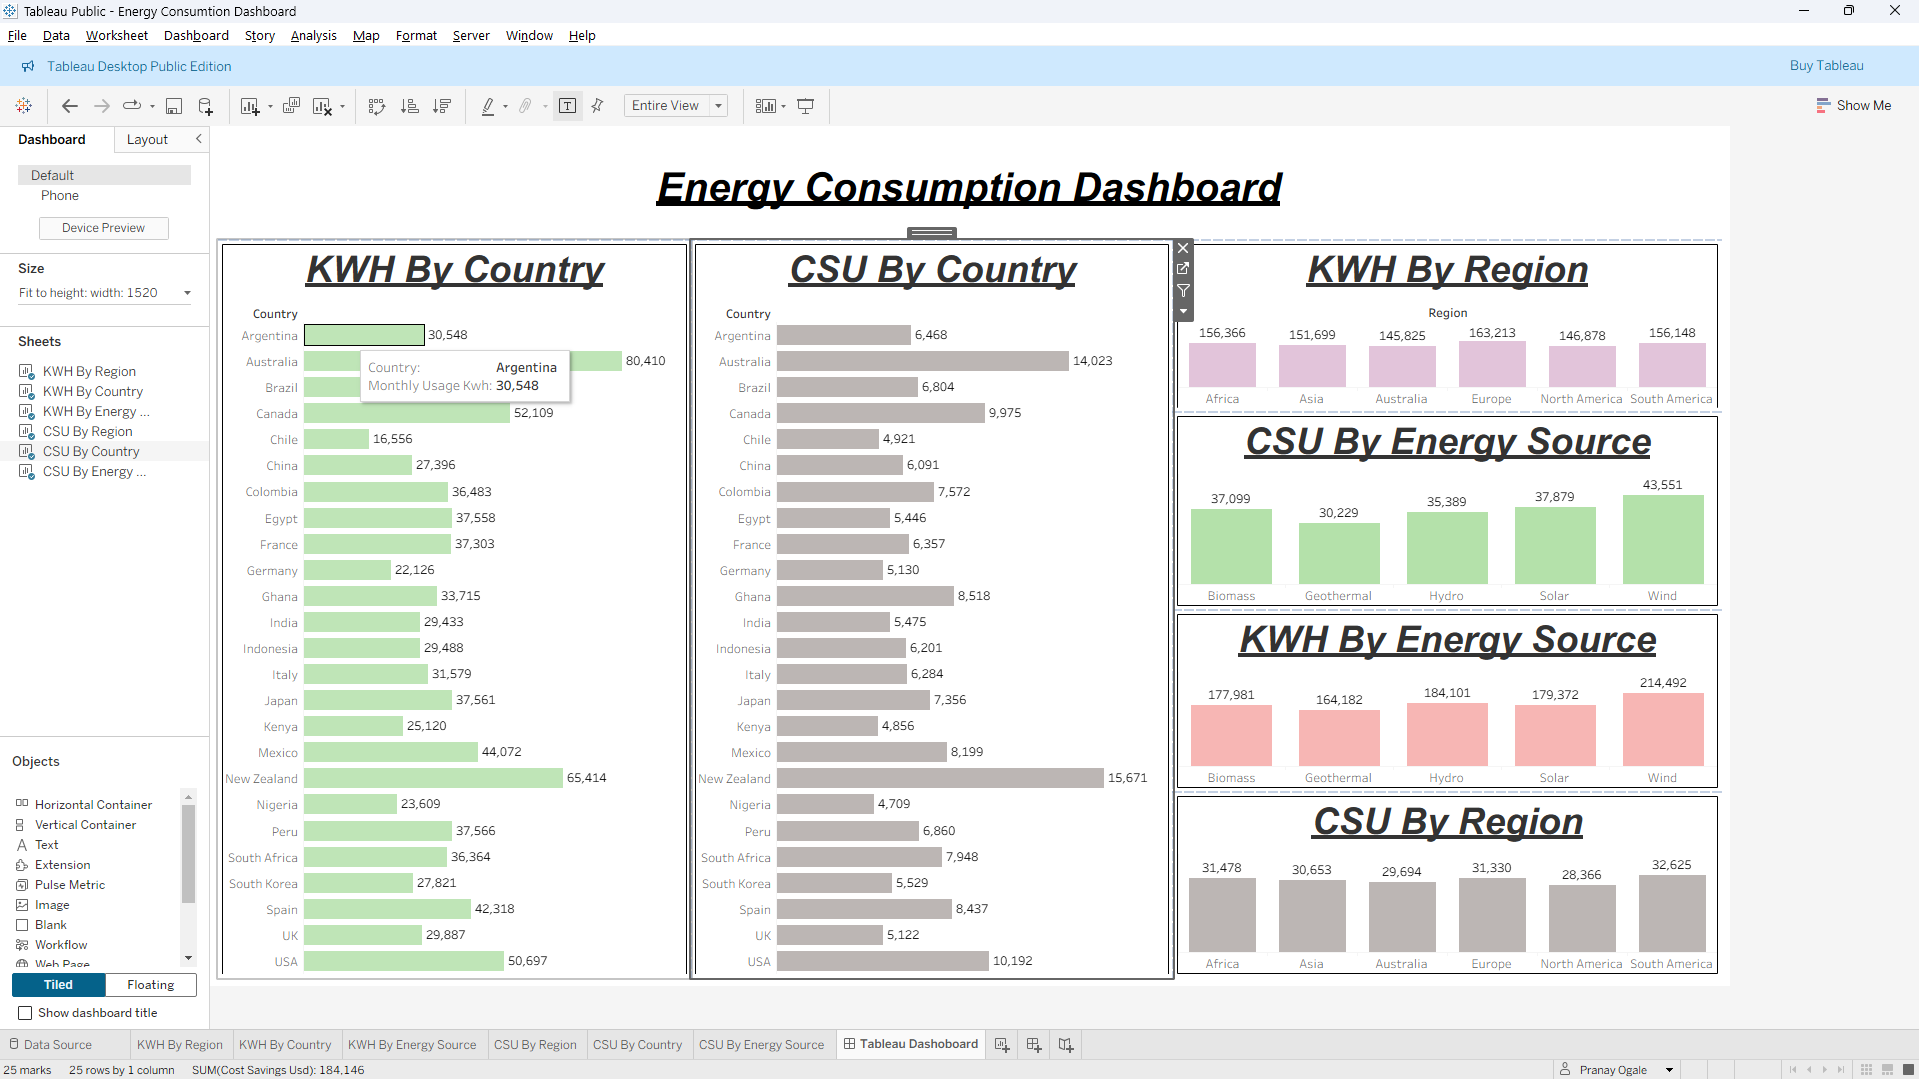

This screenshot's page, from the dashboard's own definition file:
{"tool":"tableau","page":{"name":"Tableau Dashoboard","canvas":[1000,1000],"units":"permille","ordinal":0},"visuals":[{"type":"text","box":[5.3,9.3,989.5,122.7]},{"type":"worksheet","title":"KWH By Country","mark":"Automatic","rows":["COUNTRY"],"cols":["MONTHLY_USAGE_KWH"],"box":[5.3,132,311.2,858.7]},{"type":"worksheet","title":"CSU By Country","mark":"Automatic","rows":["COUNTRY"],"cols":["COST_SAVINGS_USD"],"box":[316.4,132,317.1,858.7]},{"type":"worksheet","title":"KWH By Region","mark":"Automatic","rows":["MONTHLY_USAGE_KWH"],"cols":["REGION"],"box":[633.6,132,361.2,200.6]},{"type":"worksheet","title":"CSU By Energy Source","mark":"Automatic","rows":["COST_SAVINGS_USD"],"cols":["ENERGY_SOURCE"],"box":[633.6,332.6,361.2,230.2]},{"type":"worksheet","title":"KWH By Energy Source","mark":"Automatic","rows":["MONTHLY_USAGE_KWH"],"cols":["ENERGY_SOURCE"],"box":[633.6,562.8,361.2,211.6]},{"type":"worksheet","title":"CSU By Region","mark":"Automatic","rows":["COST_SAVINGS_USD"],"cols":["REGION"],"box":[633.6,774.4,361.2,216.3]}]}

Visuals, with their boxes on the dashboard's canvas, which has no fixed pixel size, in thousandths of its width and height (x1, y1, x2, y2). These are canvas units, not pixel positions in the 1919x1079 screenshot, which may show the page scaled, cropped or inside an application window:
text: <bbox>5, 9, 995, 132</bbox>
"KWH By Country" worksheet: <bbox>5, 132, 316, 991</bbox>
"CSU By Country" worksheet: <bbox>316, 132, 634, 991</bbox>
"KWH By Region" worksheet: <bbox>634, 132, 995, 333</bbox>
"CSU By Energy Source" worksheet: <bbox>634, 333, 995, 563</bbox>
"KWH By Energy Source" worksheet: <bbox>634, 563, 995, 774</bbox>
"CSU By Region" worksheet: <bbox>634, 774, 995, 991</bbox>
